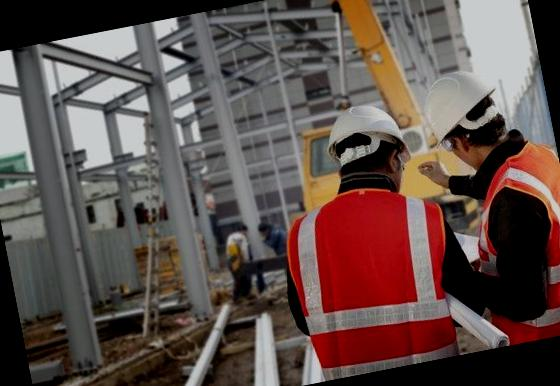helmet: (320, 94, 414, 178), (419, 60, 510, 146)
person: (254, 88, 472, 384), (410, 48, 560, 353)
